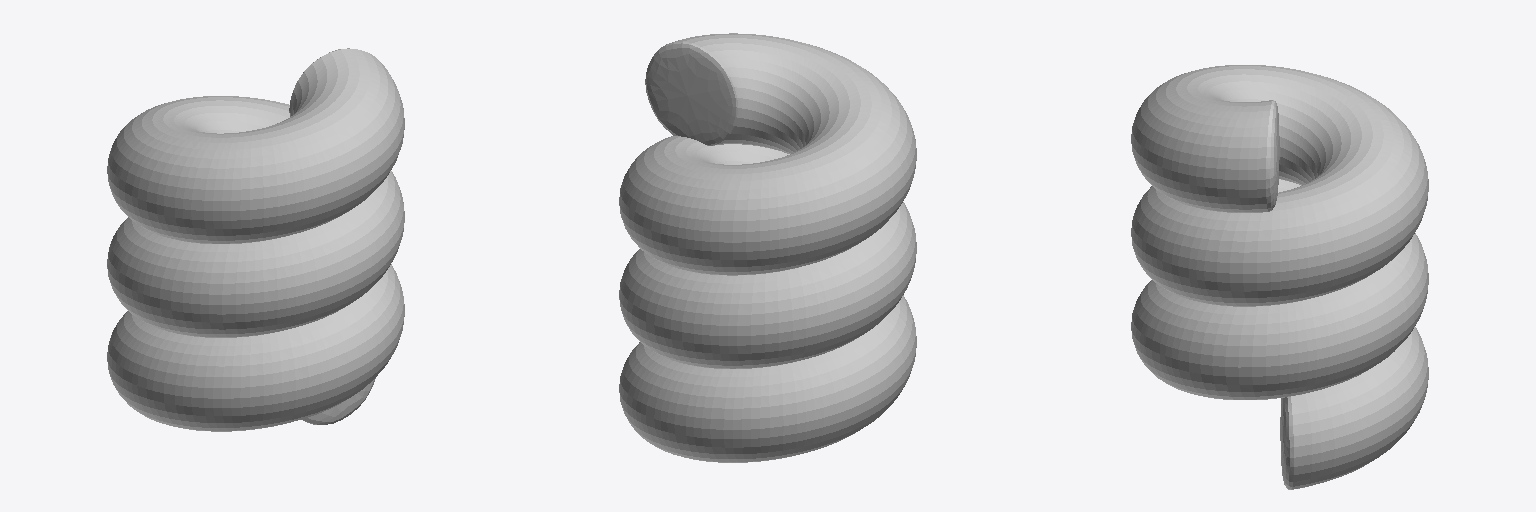
The model's file is helix_57.5.obj.
The picture shows the model from 3 angles: view 1: azimuth 30°, elevation 25°; view 2: azimuth 150°, elevation 25°; view 3: azimuth 270°, elevation 25°; orthographic projection.
Visible parts, largest first — view 1: helix:pHelix1; view 2: helix:pHelix1; view 3: helix:pHelix1.
Part boxes in pixels (x1,y1,x2,y2): helix:pHelix1: (107, 48, 404, 431); helix:pHelix1: (619, 33, 916, 462); helix:pHelix1: (1131, 65, 1428, 489).
Bounding box in the file's own units: 1.92 × 2.71 × 1.92.